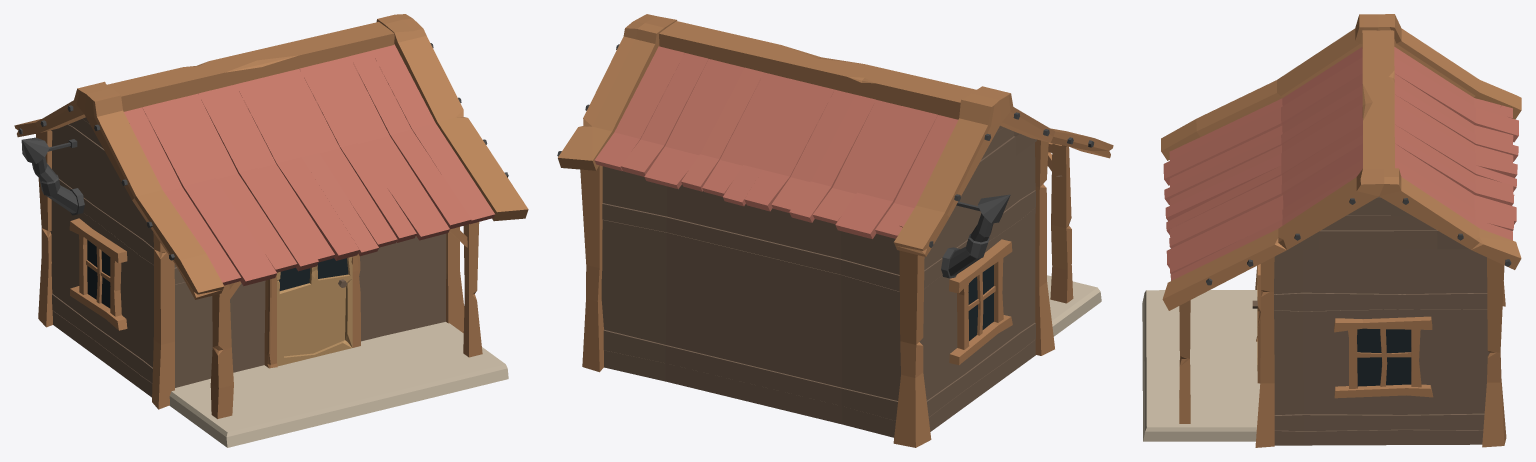
Rendered from Building_1.fbx.
3 views of the same model, side by side, from view 1: azimuth 30°, elevation 25°; view 2: azimuth 150°, elevation 25°; view 3: azimuth 270°, elevation 25° (orthographic). The views are drawn at different scales.
Parts seen in each view (by area): view 1: Building_1; view 2: Building_1; view 3: Building_1.
Part boxes in pixels (<box>): Building_1: <box>14,14,528,447</box>; Building_1: <box>557,14,1113,447</box>; Building_1: <box>1142,14,1521,447</box>.
Bounding box in the file's own units: 686 × 596 × 480.
